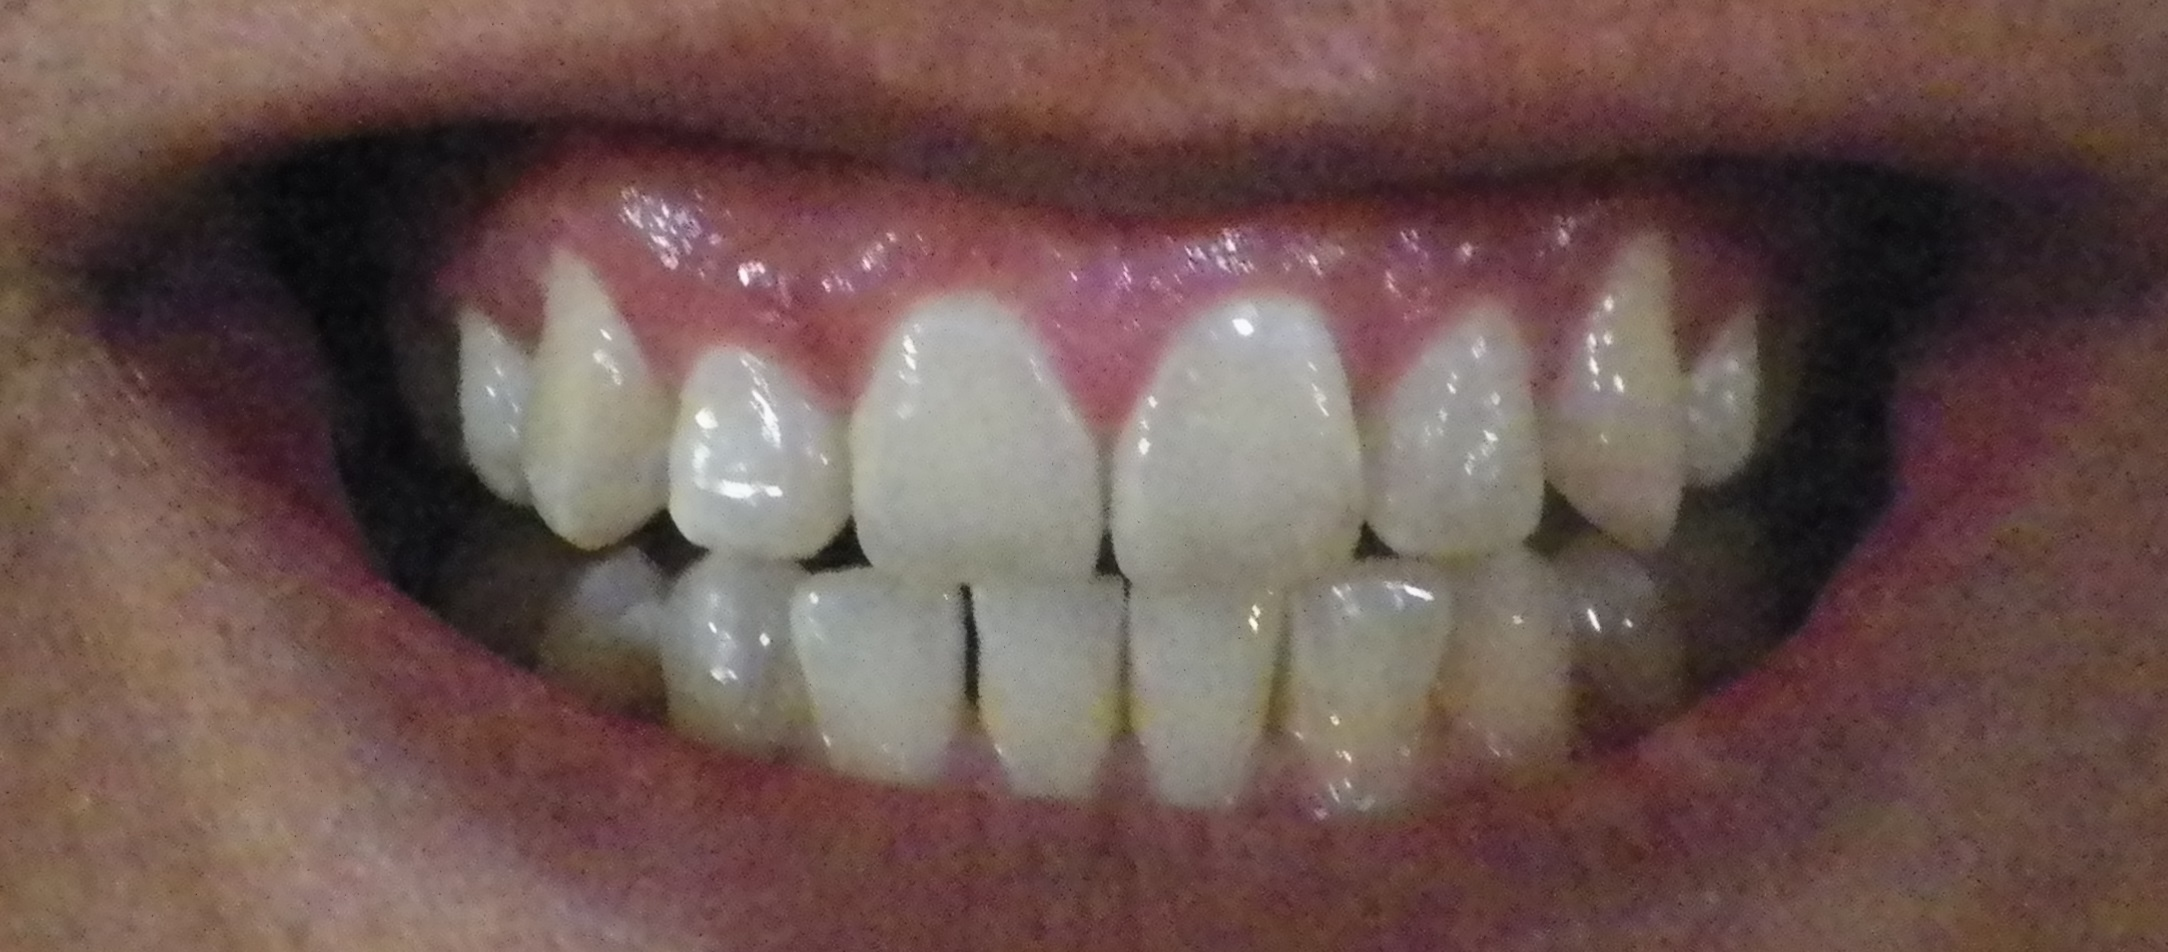boca: (430, 231, 1795, 812)
